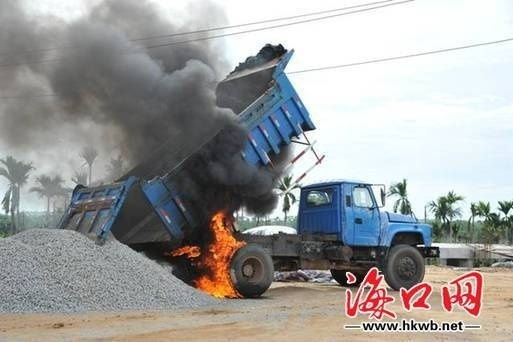fire: (168, 206, 247, 300)
